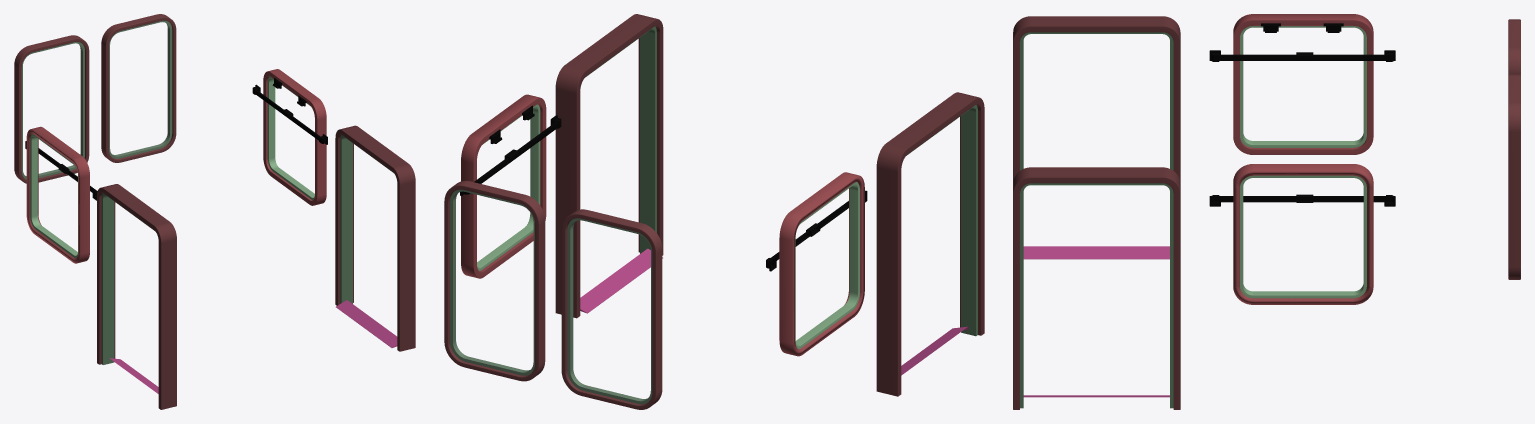
Rendered from g_subway_windowangle_001_mod.fbx.
3 views of the same model, side by side, from view 1: azimuth 30°, elevation 25°; view 2: azimuth 150°, elevation 25°; view 3: azimuth 270°, elevation 25° (orthographic). The views are drawn at different scales.
Parts seen in each view (by area): view 1: g_subway_windowangle_001_mod; view 2: g_subway_windowangle_001_mod; view 3: g_subway_windowangle_001_mod.
Part boxes in pixels (bbox=[...]): g_subway_windowangle_001_mod: bbox=[14, 14, 415, 409]; g_subway_windowangle_001_mod: bbox=[444, 14, 984, 409]; g_subway_windowangle_001_mod: bbox=[1013, 14, 1520, 409].
Bounding box in the file's own units: 256 × 341 × 198.
